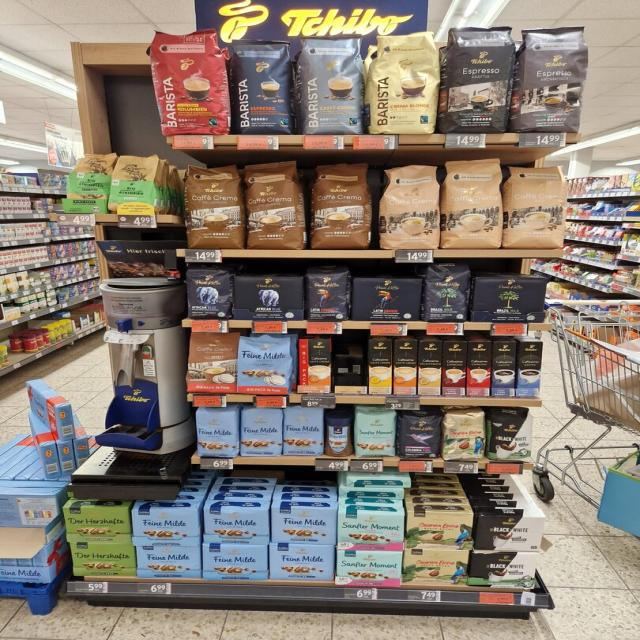AB Bohne: (184, 270, 230, 318)
AB Gemahlen: (232, 276, 306, 321)
Athiopien Bohne: (66, 150, 116, 213)
Athiopien Gemahlen: (110, 152, 160, 212)
BM Bohne: (424, 264, 470, 322)
BM Gemahlen: (470, 276, 550, 322)
BW Bohne: (488, 410, 534, 460)
BW Gemahlen: (476, 514, 548, 552), (470, 551, 538, 589)
Barista CB: (368, 33, 439, 135)
Barista CC: (300, 33, 364, 135)
Barista Espresso: (228, 36, 294, 134)
Barista Kolumbien: (147, 27, 229, 136)
C Fino Bohne: (400, 414, 442, 459)
CC Mild: (442, 160, 504, 248), (505, 165, 569, 249), (378, 166, 441, 250)
CC Vollmundig: (188, 332, 238, 394)
CC Vollmundig 36 Pads: (242, 162, 306, 250), (308, 163, 372, 249), (181, 161, 243, 248)
Colombia BB Bohne: (444, 410, 486, 460)
Colombia BB Gemahlen: (406, 509, 474, 550), (404, 547, 469, 585)
Empty Shelf: (332, 338, 368, 386)
Espresso Aromatisch: (520, 27, 590, 133)
Espresso Kraftig: (445, 25, 513, 133)
FM 36 Pads: (238, 335, 292, 395)
FM Bohne: (194, 408, 238, 458), (241, 407, 283, 457), (282, 406, 324, 456)
FM Gemahlen: (132, 508, 200, 547), (270, 506, 337, 544), (202, 542, 268, 580), (269, 543, 335, 581), (203, 508, 269, 544), (136, 546, 202, 578)
FM Instant: (326, 412, 354, 457)
Herzhatfe Mundig: (62, 506, 132, 543), (69, 542, 137, 576)
LG Bohne: (306, 268, 350, 322)
LG Gemahlen: (351, 277, 423, 322)
SM Bohne: (355, 408, 397, 458)
SM Gemahlen: (338, 510, 404, 550), (336, 549, 403, 587)
Simo CCMild bigpack: (369, 340, 392, 394)
Simo CCVollmundig: (299, 339, 331, 393)
Simo CCVollmundig bigpack: (394, 340, 416, 395)
Simo Decaff: (418, 341, 443, 395)
Simo Es Brazil: (467, 341, 492, 395)
Simo Es Caramel: (442, 341, 468, 396)
Simo Es Kraft: (492, 341, 516, 396)
Simo Es Vanilla: (516, 341, 543, 397)
